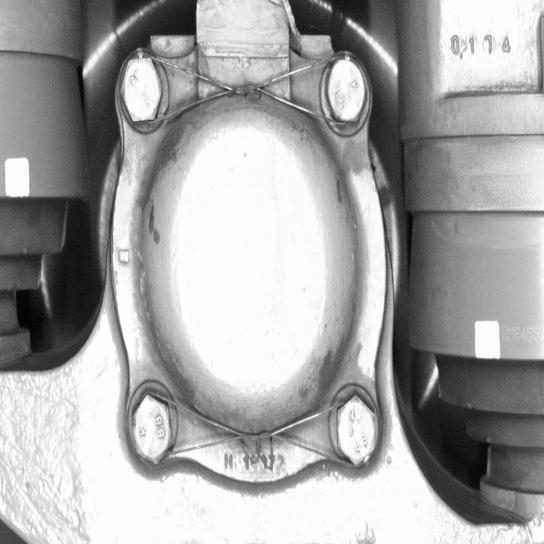IronWire: (123, 387, 382, 471), (113, 49, 372, 131)
Screw: (329, 387, 381, 473), (123, 388, 177, 470), (114, 51, 169, 130), (319, 50, 371, 131)
